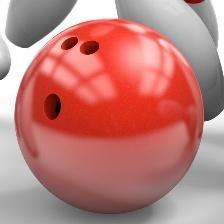Sports-Ball: (14, 22, 204, 214)
